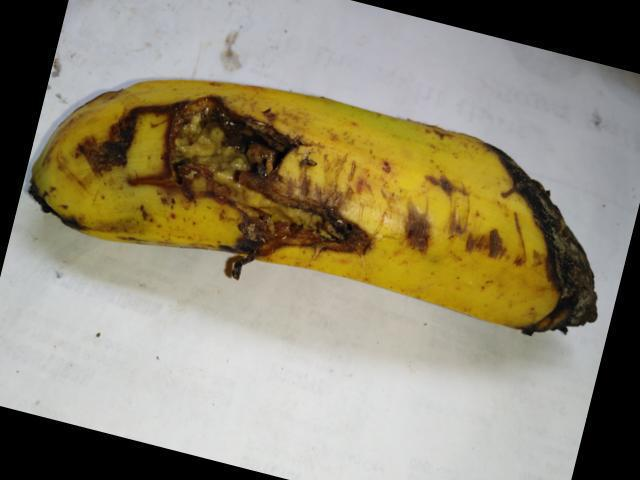rotten: (83, 72, 408, 310), (434, 120, 613, 374)
